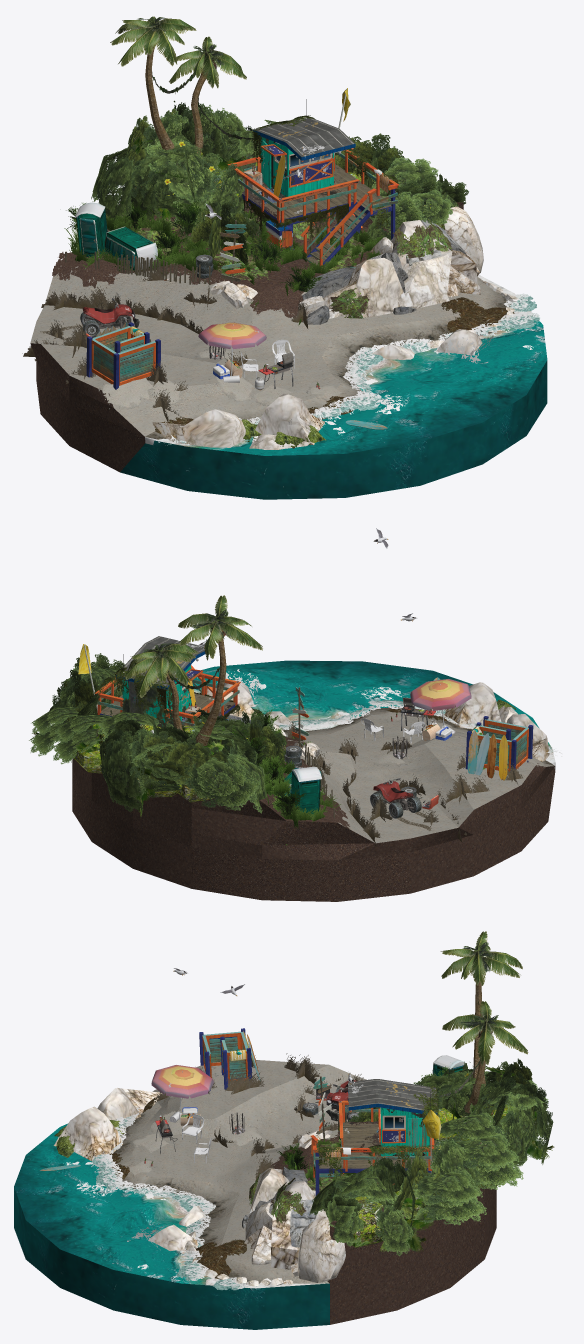
The model's file is miami_beach_diorama.glb.
3 renders of one model, top to bottom at view 1: azimuth 30°, elevation 25°; view 2: azimuth 150°, elevation 25°; view 3: azimuth 270°, elevation 25°, orthographic. The views are drawn at different scales.
Visible parts, largest first — view 1: Base1, RocksAll, polySurface278, House1, Grass, ChangingCabin1, WC, polySurface502, polySurface523, polySurface482, polySurface497, polySurface607 (+18 smaller); view 2: Base1, polySurface278, House1, RocksAll, ChangingCabin1, polySurface521, Grass, polySurface510, polySurface141, WC, polySurface476, polySurface559 (+15 smaller); view 3: Base1, RocksAll, polySurface278, House1, ChangingCabin1, polySurface535, polySurface525, polySurface141, polySurface589, polySurface601, polySurface526, polySurface536 (+15 smaller).
Boxes of the visible parts, box(x1,y1,x2,y2) form: Base1: box(30, 139, 547, 499); RocksAll: box(152, 206, 517, 486); polySurface278: box(22, 264, 539, 449); House1: box(227, 88, 398, 267); Grass: box(64, 141, 388, 295); ChangingCabin1: box(86, 155, 285, 389); WC: box(74, 202, 157, 270); polySurface502: box(145, 140, 216, 203); polySurface523: box(97, 156, 135, 220); polySurface482: box(181, 200, 261, 255); polySurface497: box(140, 162, 192, 217); polySurface607: box(366, 191, 426, 242); Base1: box(72, 660, 555, 901); polySurface278: box(195, 669, 562, 846); House1: box(78, 636, 240, 726); RocksAll: box(207, 679, 549, 761); ChangingCabin1: box(187, 680, 533, 780); polySurface521: box(185, 757, 261, 810); Grass: box(202, 704, 340, 845); polySurface510: box(100, 738, 143, 812); polySurface141: box(410, 679, 471, 711); WC: box(281, 766, 321, 813); polySurface476: box(162, 737, 212, 784); polySurface559: box(195, 629, 226, 746); Base1: box(14, 1060, 519, 1329); RocksAll: box(53, 1088, 345, 1286); polySurface278: box(54, 1053, 363, 1290); House1: box(310, 1079, 441, 1195); ChangingCabin1: box(199, 1028, 260, 1090); polySurface535: box(416, 1170, 482, 1205); polySurface525: box(455, 1135, 519, 1170); polySurface141: box(151, 1065, 213, 1098); polySurface589: box(373, 1204, 413, 1256); polySurface601: box(426, 1138, 481, 1206); polySurface526: box(440, 1112, 504, 1142); polySurface536: box(417, 1185, 486, 1225).
Bounding box in the file's own units: 25.8 × 16.08 × 26.79.
81 materials, 78 textured.
